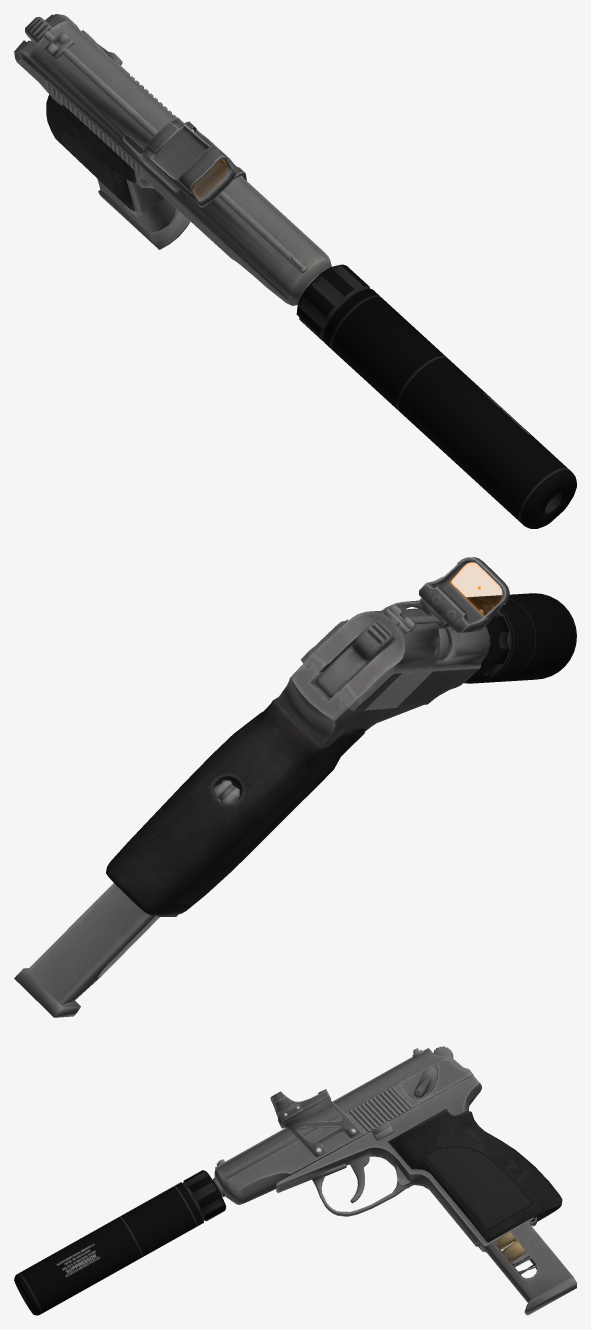
File: silah_makarov.glb
The picture shows the model from 3 angles, top to bottom: view 1: azimuth 30°, elevation 25°; view 2: azimuth 150°, elevation 25°; view 3: azimuth 270°, elevation 25°; orthographic projection. The views are drawn at different scales.
Parts seen in each view (by area): view 1: Object_16, Object_14, Object_12, Object_4, Object_10; view 2: Object_4, Object_14, Object_10, Object_16, Object_12, Object_8; view 3: Object_4, Object_14, Object_16, Object_10, Object_12, Object_18.
Part boxes in pixels (x1,y1,x2,y2): Object_16: (296, 264, 576, 528); Object_14: (14, 14, 331, 305); Object_12: (142, 117, 246, 207); Object_4: (31, 40, 319, 290); Object_10: (97, 179, 190, 249); Object_4: (106, 628, 448, 916); Object_14: (301, 604, 490, 711); Object_10: (14, 883, 159, 1017); Object_16: (464, 593, 576, 683); Object_12: (382, 557, 509, 632); Object_8: (315, 620, 393, 697); Object_4: (212, 1075, 562, 1252); Object_14: (214, 1048, 473, 1204); Object_16: (14, 1170, 225, 1315); Object_10: (479, 1222, 576, 1315); Object_12: (270, 1089, 361, 1157); Object_18: (349, 1155, 369, 1203).
Size of the model in its own units: 0.1001 by 0.132 by 0.3202.
2 materials, 2 textured.
